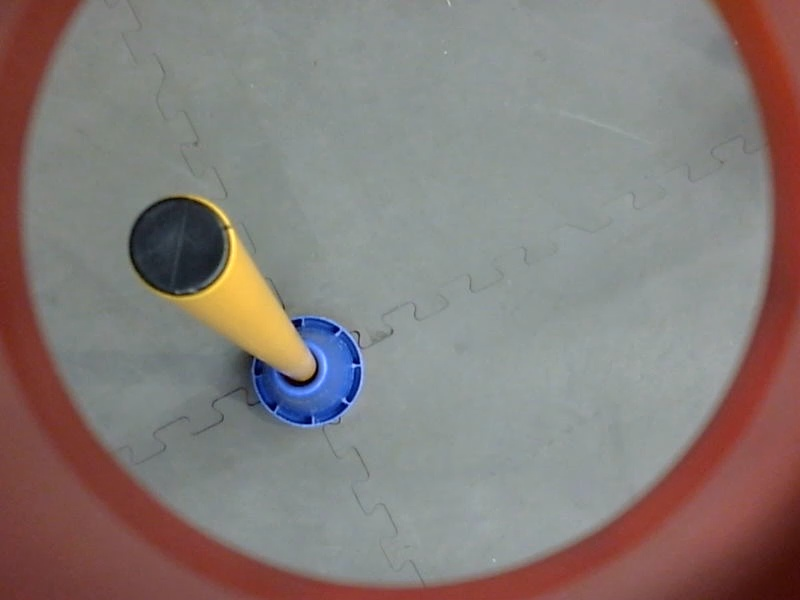tip: (124, 190, 236, 301)
